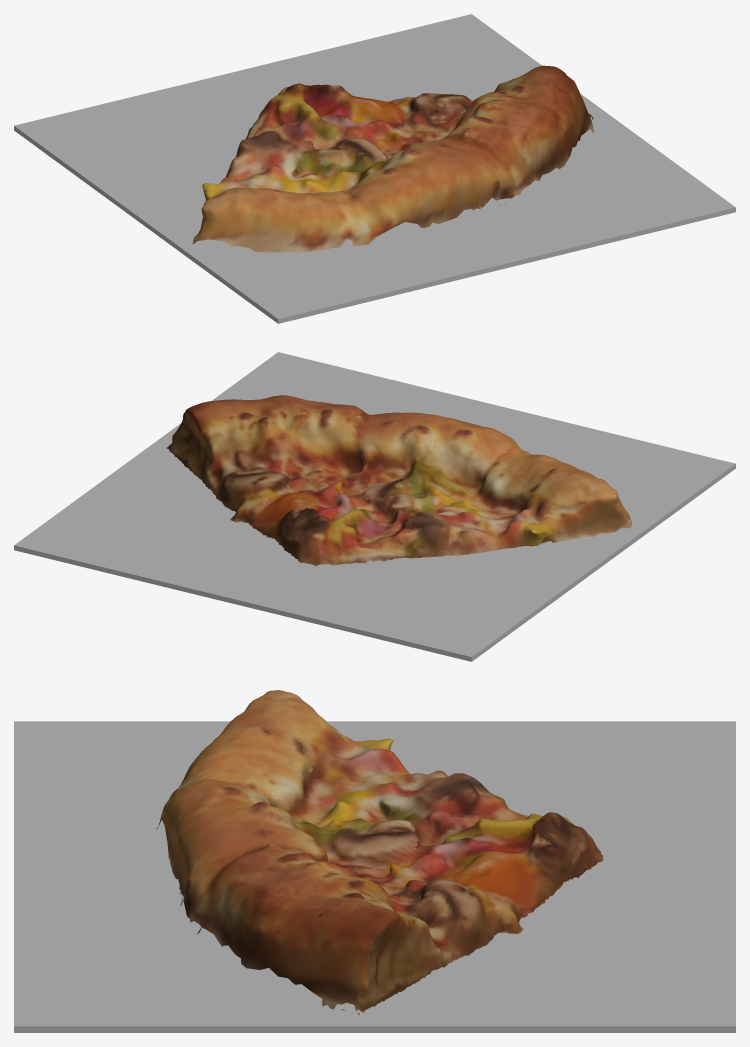
Rendered from pizza.gltf.
The picture shows the model from 3 angles, top to bottom: view 1: azimuth 30°, elevation 25°; view 2: azimuth 150°, elevation 25°; view 3: azimuth 270°, elevation 25°; orthographic projection. The views are drawn at different scales.
Visible parts, largest first — view 1: Cube, TexturedMesh; view 2: Cube, TexturedMesh; view 3: Cube, TexturedMesh.
Part boxes in pixels (left/top/right/bottom): Cube: left=14, top=14, right=735, bottom=323; TexturedMesh: left=193, top=65, right=593, bottom=252; Cube: left=14, top=352, right=735, bottom=661; TexturedMesh: left=167, top=395, right=631, bottom=566; Cube: left=14, top=721, right=735, bottom=1032; TexturedMesh: left=156, top=690, right=603, bottom=1014.
Bounding box in the file's own units: 0.6 × 0.0826 × 0.6.
2 materials, 1 textured.
